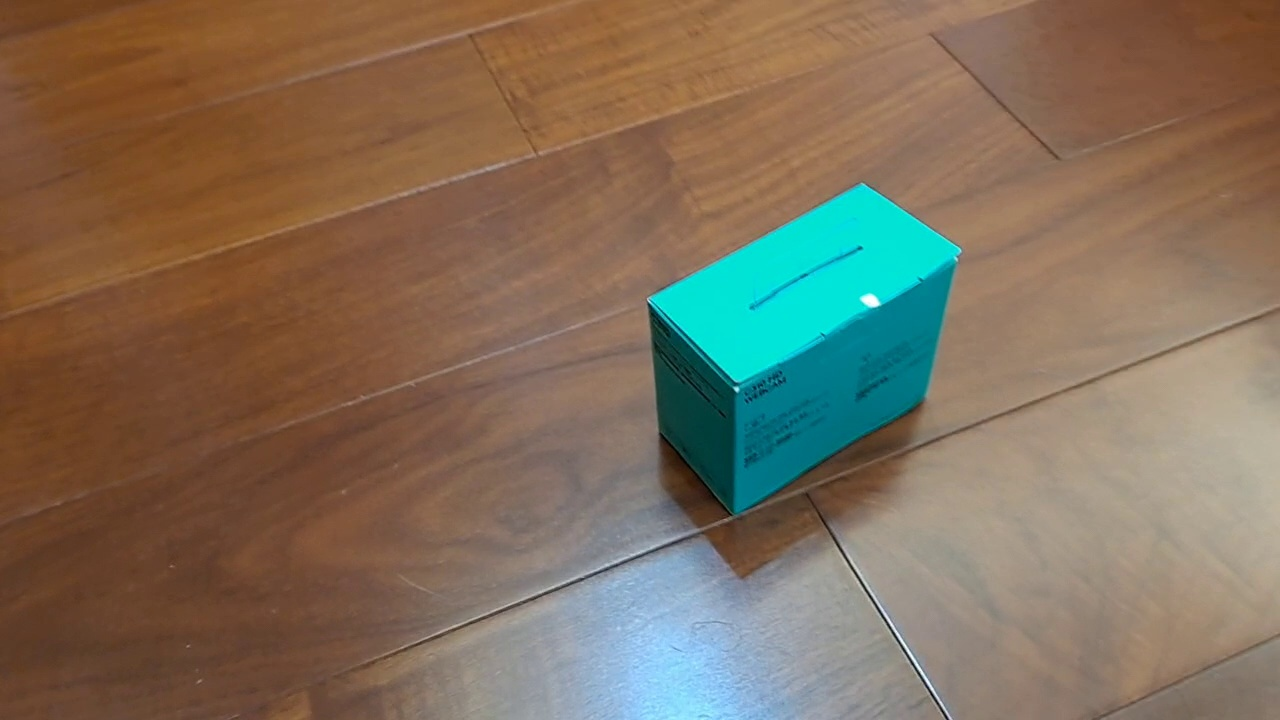webcam: (644, 179, 964, 518)
